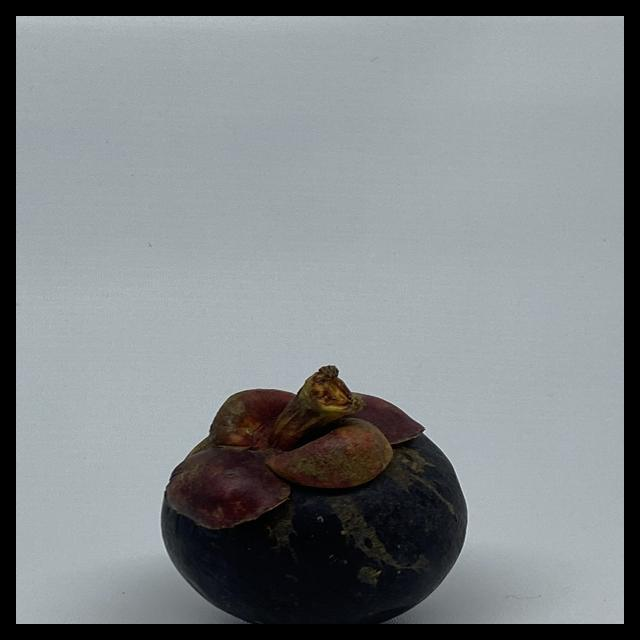mangosteen: (160, 371, 477, 624)
